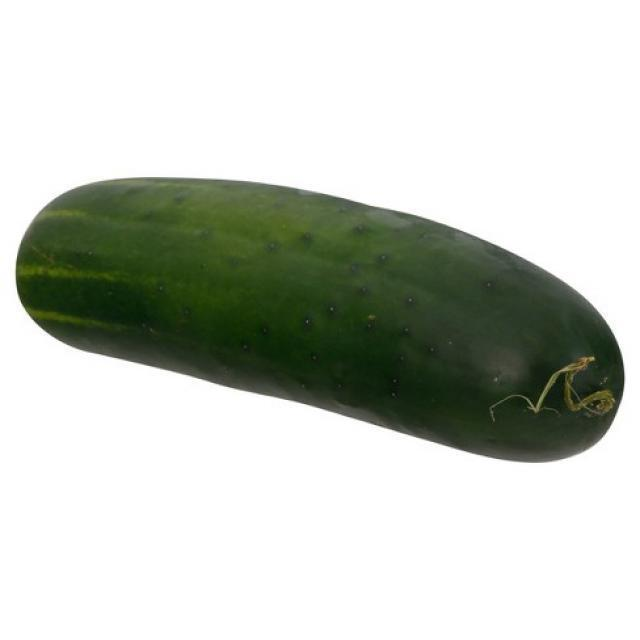cucumber: (11, 172, 630, 467)
